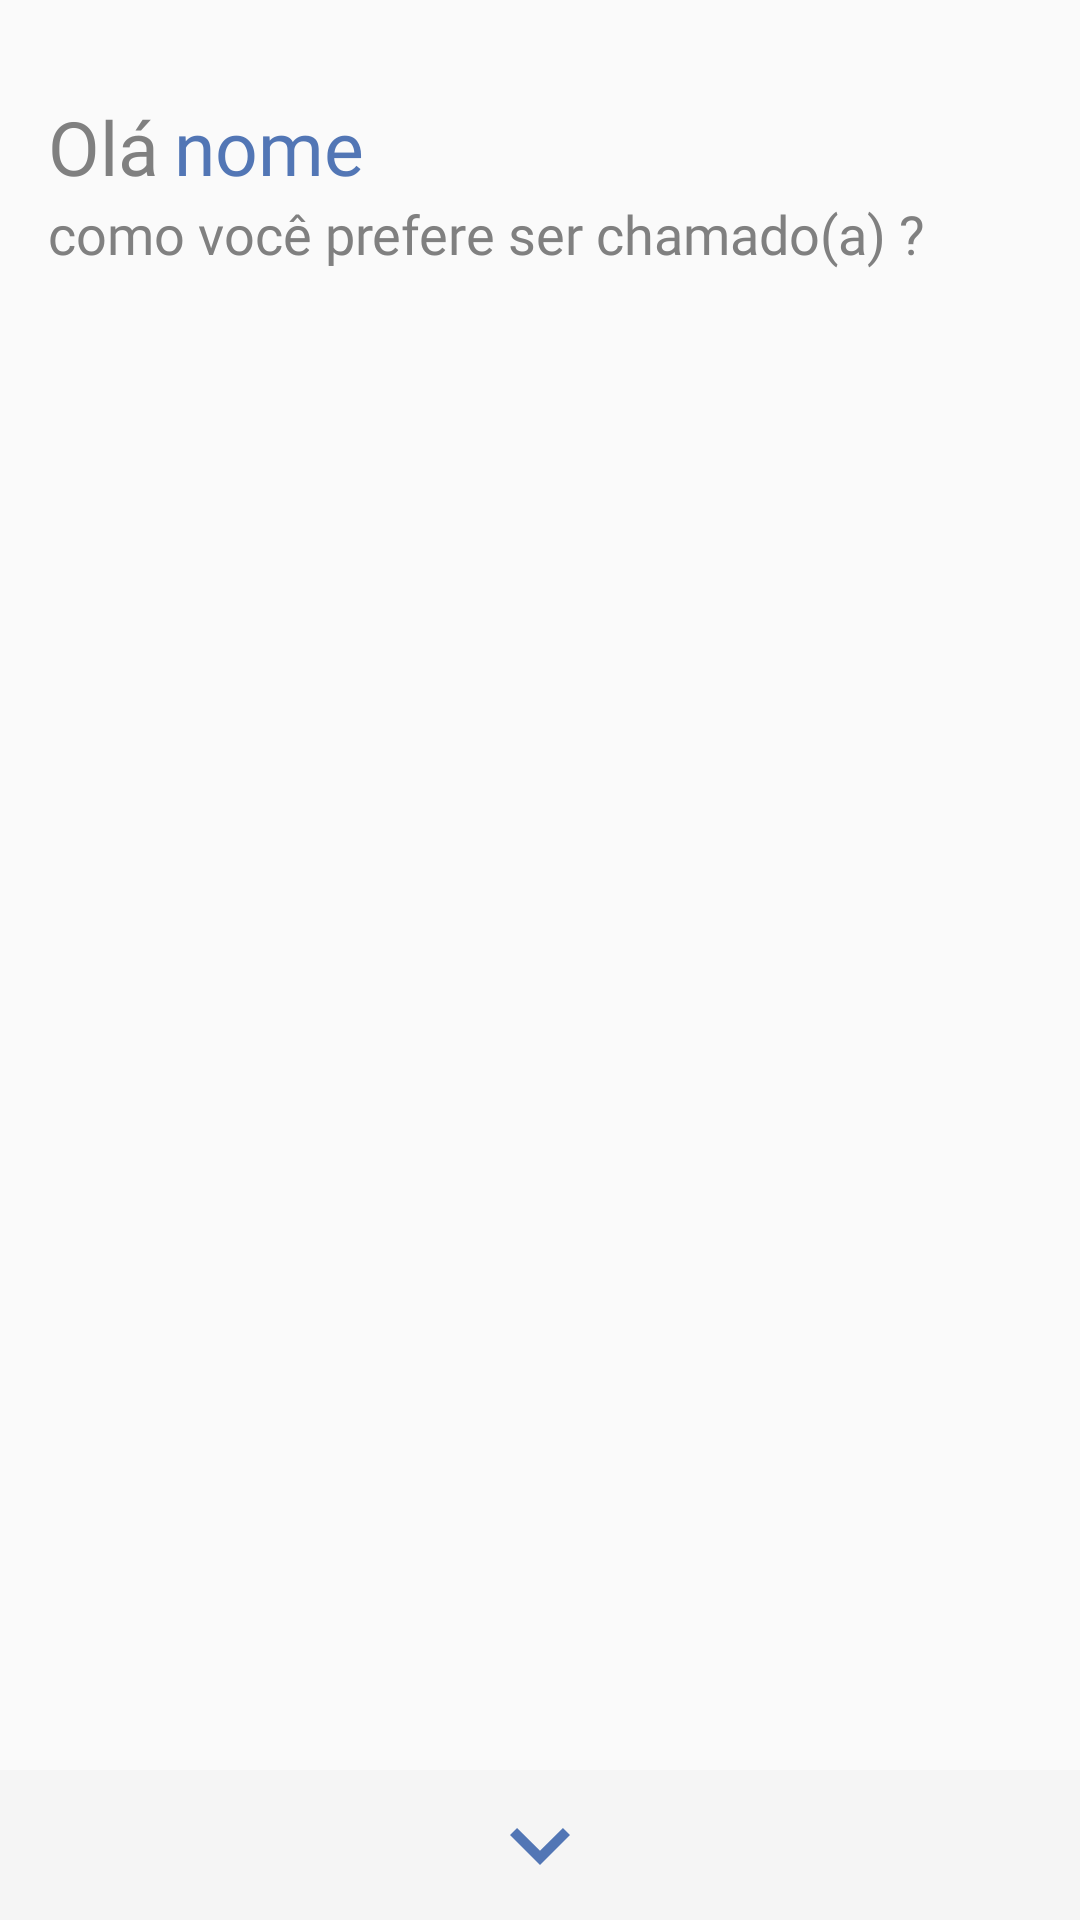

Icons on this 1080 × 1920 Android screen, each with its box as (x1, y1, x2, y2):
chevron down: (510, 1828, 570, 1865)
